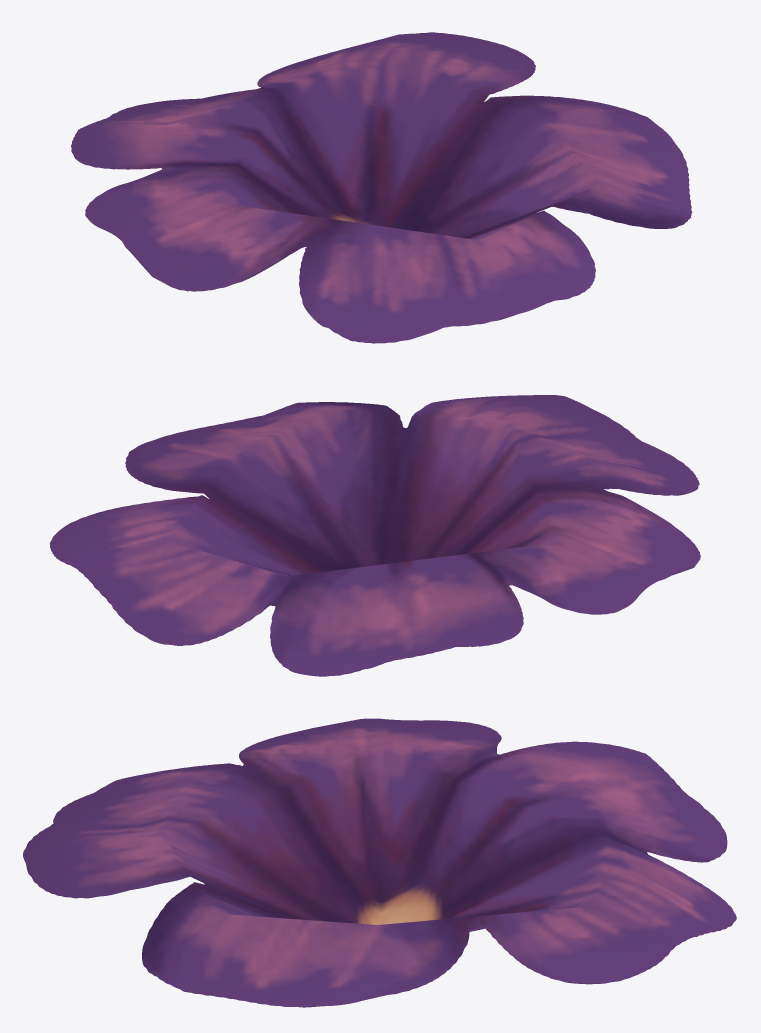
The model's file is F_Flower_03.fbx.
3 views of the same model, one above another, from view 1: azimuth 30°, elevation 25°; view 2: azimuth 150°, elevation 25°; view 3: azimuth 270°, elevation 25° (orthographic). The views are drawn at different scales.
Visible parts, largest first — view 1: F_Flower_03; view 2: F_Flower_03; view 3: F_Flower_03.
Boxes of the visible parts, bbox=[...] form: F_Flower_03: bbox=[71, 32, 692, 343]; F_Flower_03: bbox=[49, 395, 700, 676]; F_Flower_03: bbox=[23, 718, 736, 1007].
Bounding box in the file's own units: 116 × 20.87 × 123.
